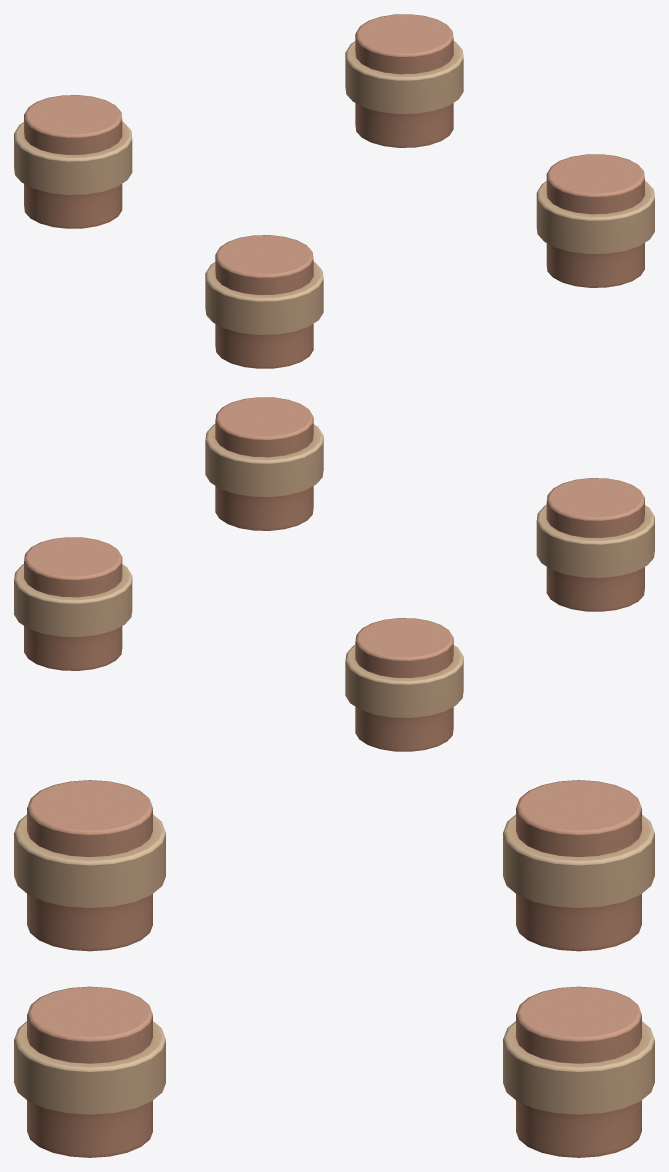
Rendered from Props.fbx.
3 renders of one model, top to bottom at view 1: azimuth 30°, elevation 25°; view 2: azimuth 150°, elevation 25°; view 3: azimuth 270°, elevation 25°, orthographic. The views are drawn at different scales.
Parts seen in each view (by area): view 1: Cylinder-3 (2), Cylinder-3 (3), Cylinder-3, Cylinder-3 (1); view 2: Cylinder-3, Cylinder-3 (1), Cylinder-3 (2), Cylinder-3 (3); view 3: Cylinder-3, Cylinder-3 (1), Cylinder-3 (2), Cylinder-3 (3).
Boxes of the visible parts, bbox=[...] form: Cylinder-3 (2): bbox=[14, 95, 132, 228]; Cylinder-3 (3): bbox=[345, 14, 463, 147]; Cylinder-3: bbox=[205, 235, 323, 368]; Cylinder-3 (1): bbox=[536, 154, 654, 287]; Cylinder-3: bbox=[536, 478, 654, 611]; Cylinder-3 (1): bbox=[205, 397, 323, 530]; Cylinder-3 (2): bbox=[345, 618, 463, 751]; Cylinder-3 (3): bbox=[14, 537, 132, 670]; Cylinder-3: bbox=[14, 780, 165, 951]; Cylinder-3 (1): bbox=[14, 986, 165, 1157]; Cylinder-3 (2): bbox=[503, 780, 654, 951]; Cylinder-3 (3): bbox=[503, 986, 654, 1157].
Bounding box in the file's own units: 24.39 × 5 × 24.39.
